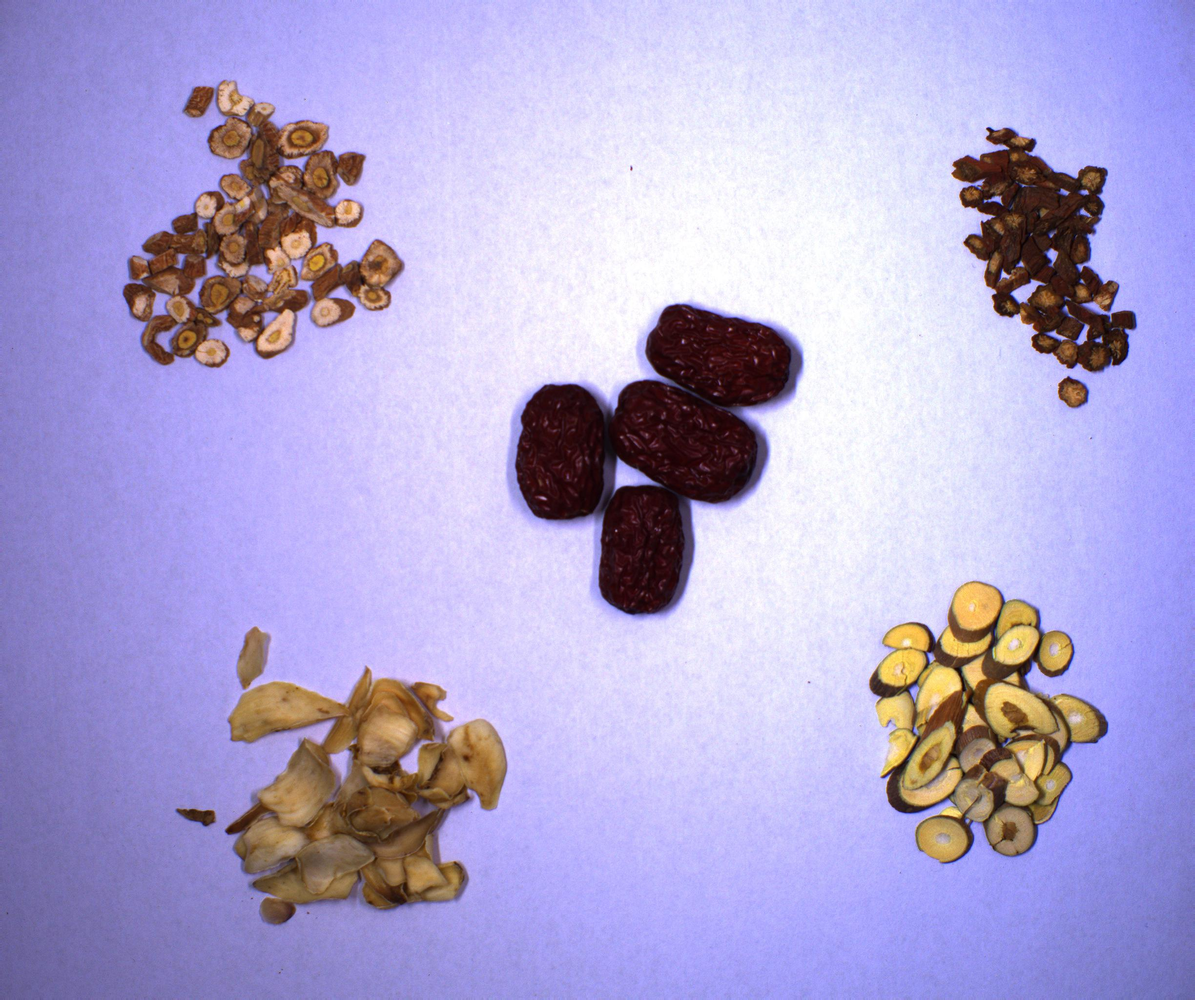baihe: (179, 620, 505, 935)
banlangen: (121, 74, 410, 371)
danshen: (946, 117, 1146, 410)
dazao: (503, 285, 802, 623)
sangzhi: (858, 575, 1115, 872)
